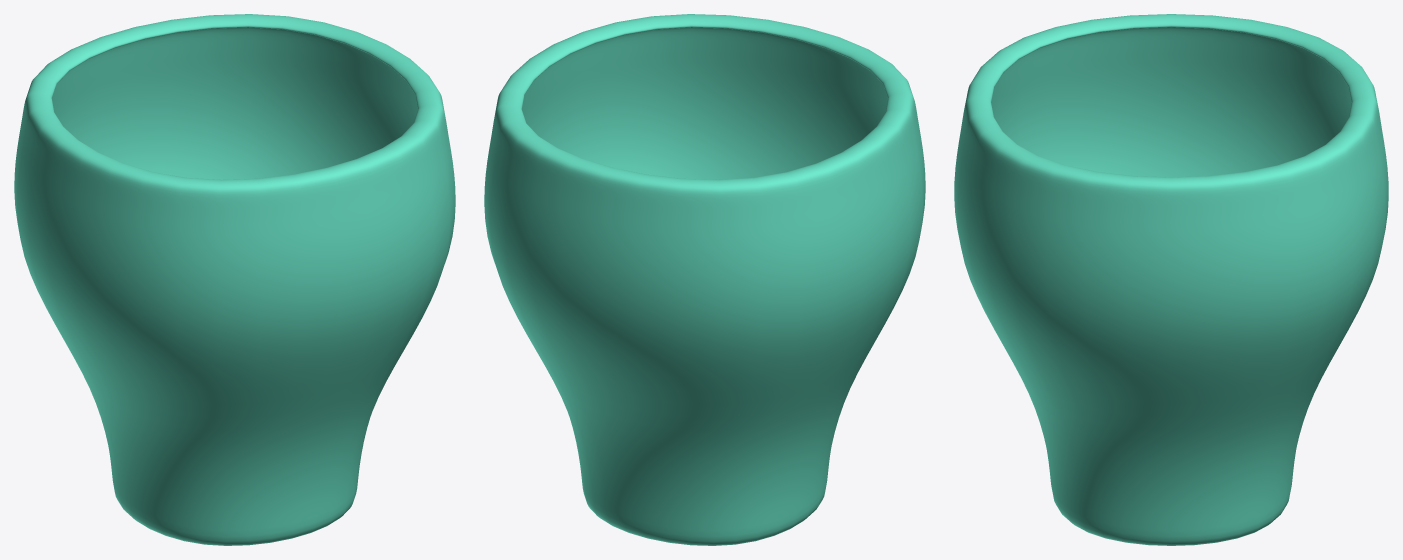
Rendered from vase.gltf.
3 views of the same model, side by side, from view 1: azimuth 30°, elevation 25°; view 2: azimuth 150°, elevation 25°; view 3: azimuth 270°, elevation 25° (orthographic).
Parts seen in each view (by area): view 1: vase; view 2: vase; view 3: vase.
Boxes of the visible parts, x1,y1,x2,y2 form: vase: (14, 14, 455, 545); vase: (484, 14, 925, 545); vase: (954, 14, 1388, 545).
Bounding box in the file's own units: 3.66 × 3.77 × 3.66.
